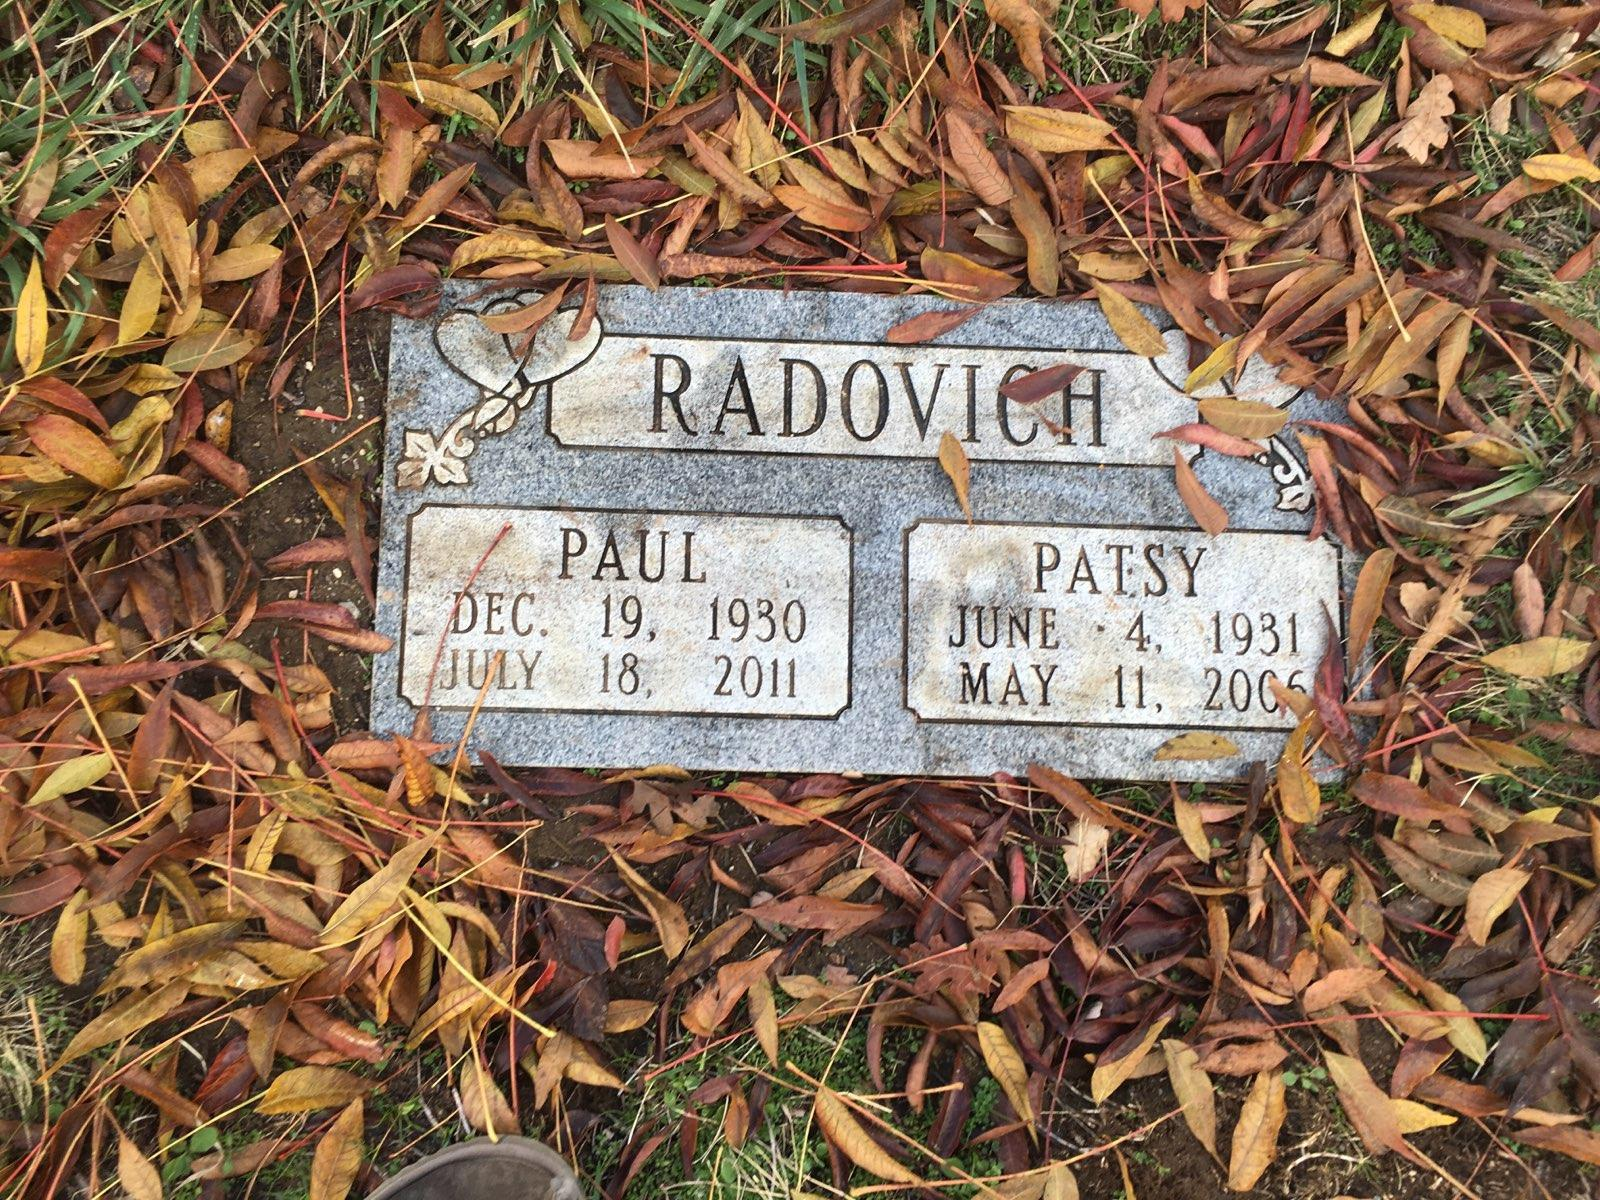flat: (336, 212, 1424, 857)
